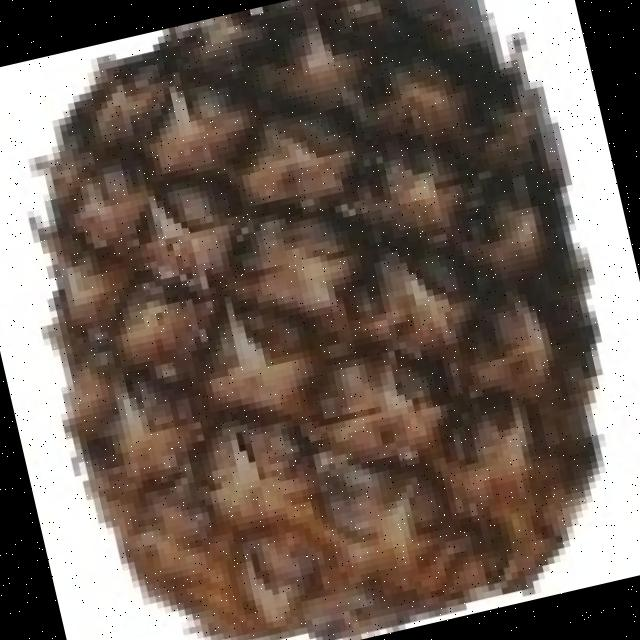pineapple: (40, 0, 586, 640)
